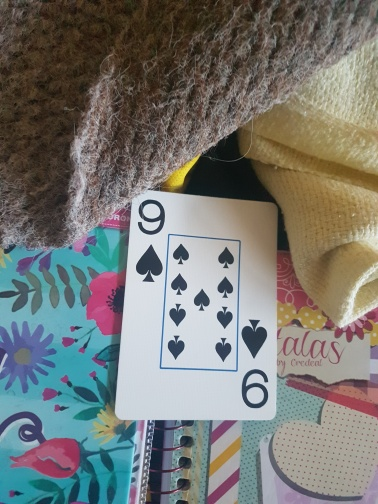nine: (115, 185, 278, 422)
